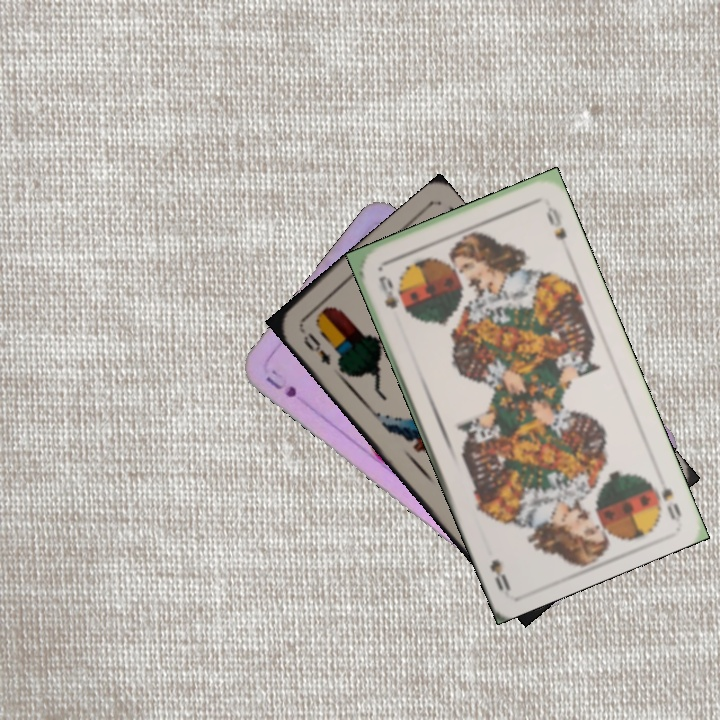EO: (299, 328, 334, 369)
SO: (374, 271, 402, 311), (657, 483, 685, 523)
SU: (262, 365, 300, 400)
